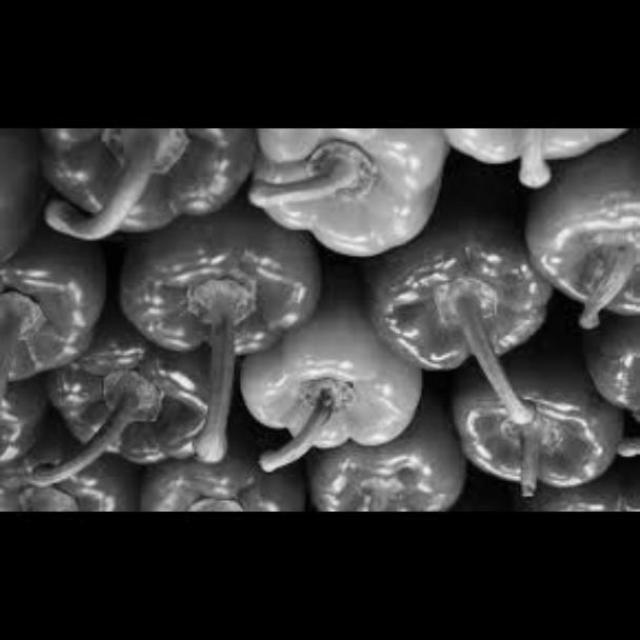ot chuong: (238, 257, 425, 469), (372, 184, 552, 382), (114, 203, 328, 368), (445, 344, 639, 506), (42, 331, 227, 477), (244, 129, 440, 265), (33, 129, 255, 246), (533, 129, 640, 334), (282, 401, 464, 513), (0, 232, 116, 401), (0, 413, 152, 512), (439, 129, 622, 206), (125, 441, 307, 513), (0, 130, 61, 272), (0, 377, 55, 480)
